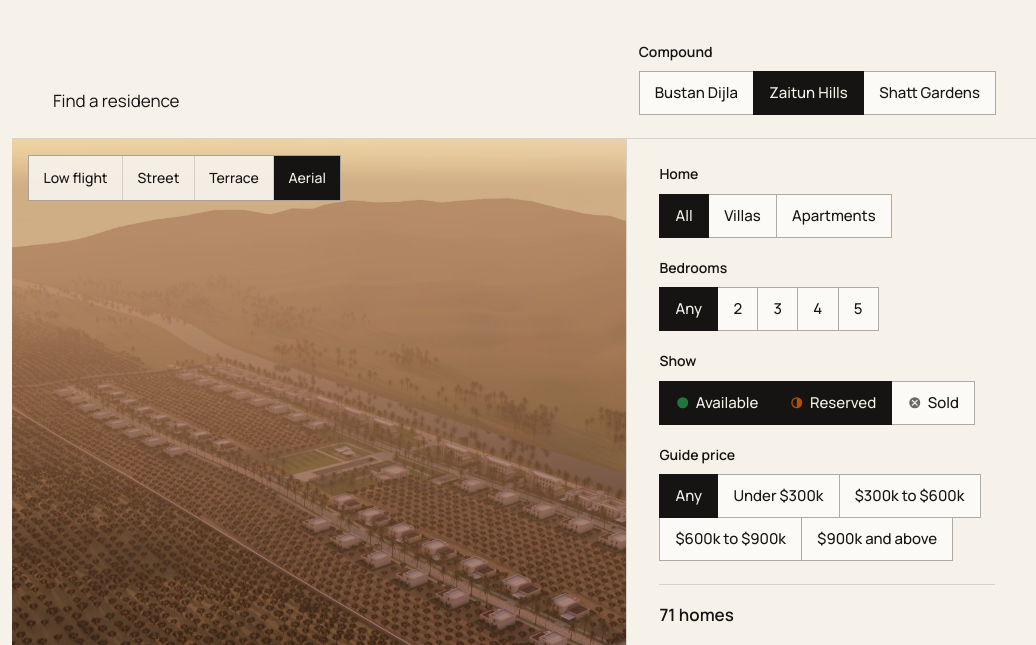
Test case: Finder › explains coming-soon compounds and hides the sold/reserved legend
Click the radio button labelled "Shatt Gardens": x=929, y=93 x1=863 y1=71 x2=995 y2=114
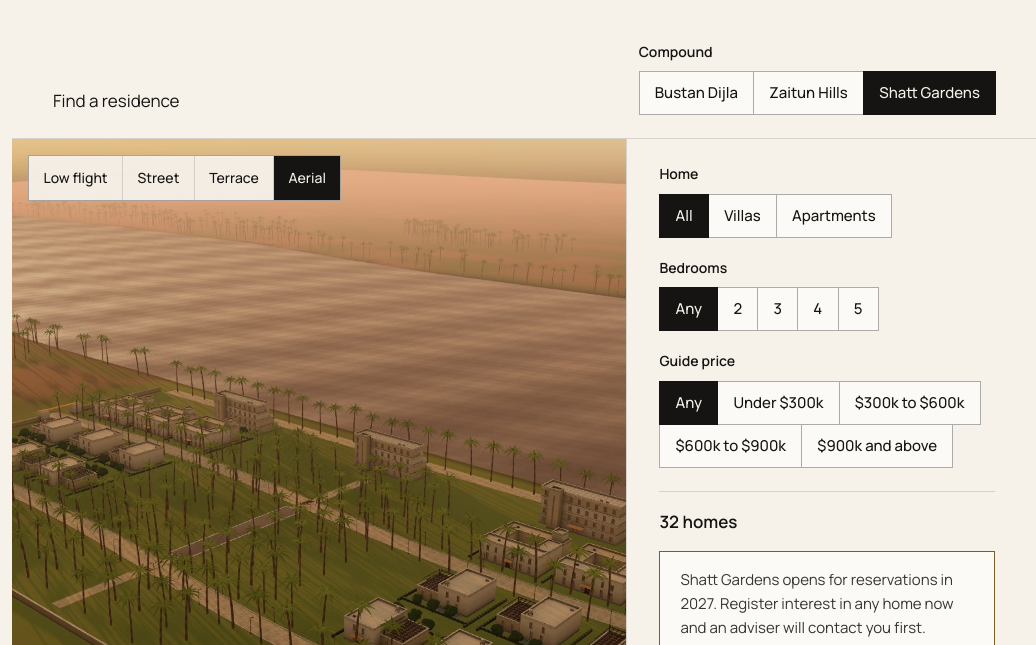
Now the text "opens for reservations in 2027" is shown, box x1=680 y1=569 x2=954 y2=638
